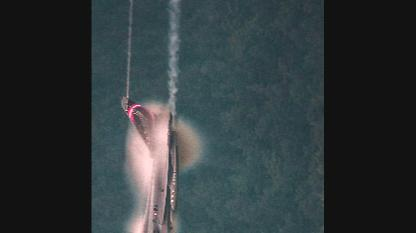E2: (121, 96, 179, 232)
